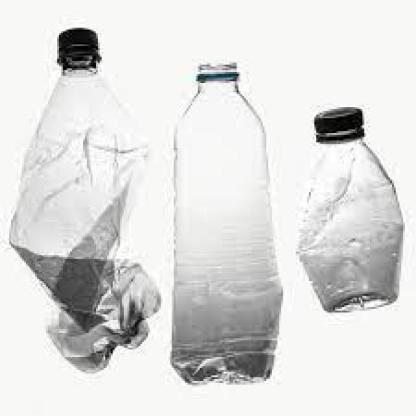Plastic Bottle: (8, 26, 160, 372), (169, 61, 282, 385), (295, 106, 405, 312)
